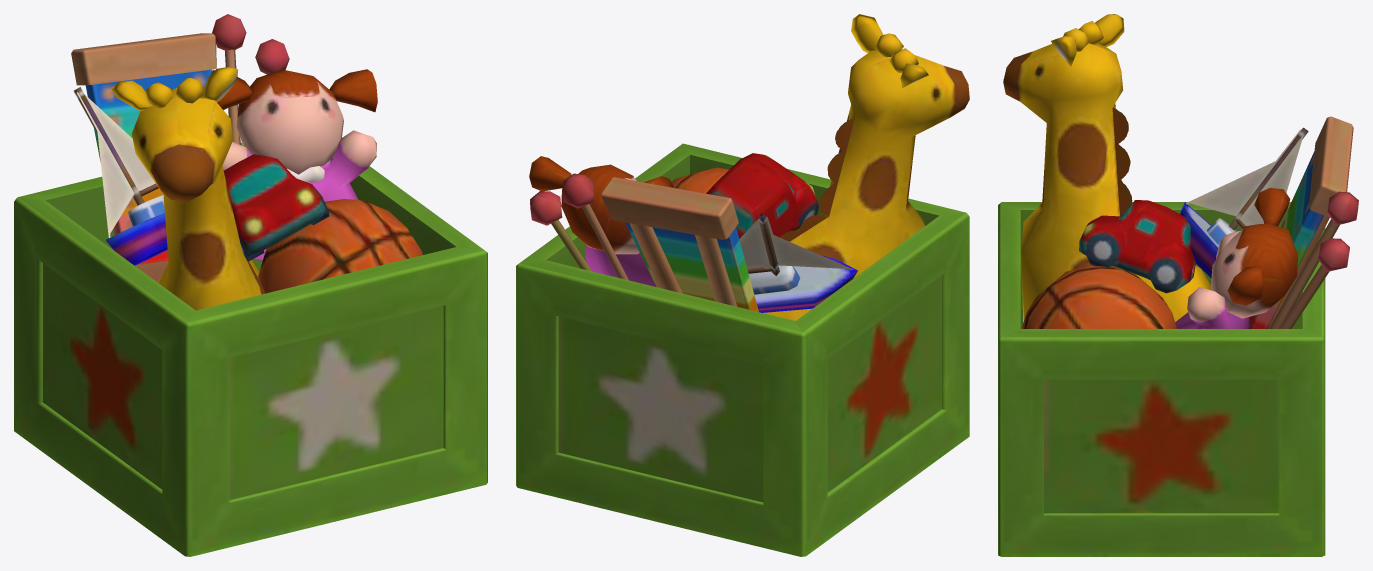
3 renders of one model, left to right at view 1: azimuth 30°, elevation 25°; view 2: azimuth 150°, elevation 25°; view 3: azimuth 270°, elevation 25°, orthographic. The views are drawn at different scales.
Size of the model in its own units: 7.85 by 10 by 7.86.
1 material, 1 textured.
